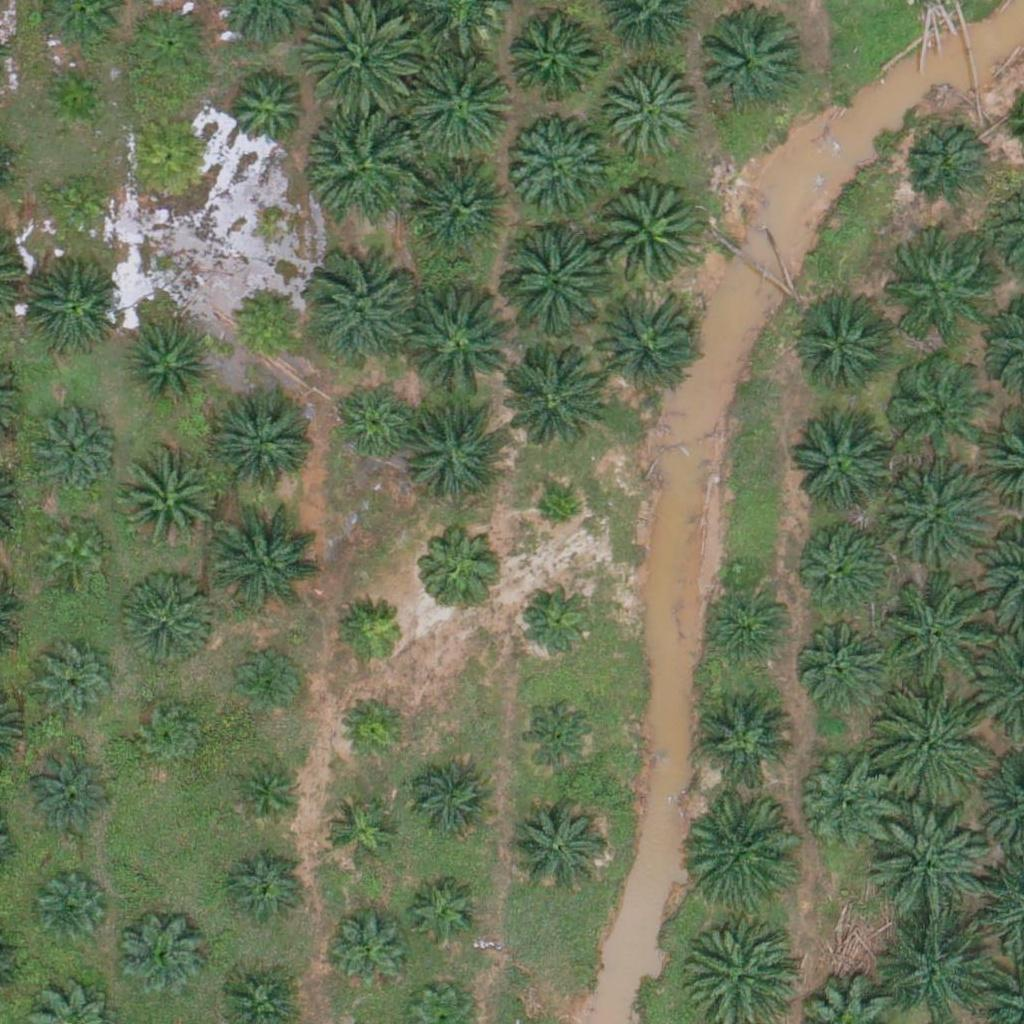Kelapa_Sawit: (686, 792, 799, 906), (870, 809, 983, 922), (876, 461, 989, 574), (878, 690, 991, 803), (495, 226, 608, 339), (492, 343, 605, 456), (310, 107, 423, 220), (307, 255, 420, 368), (399, 285, 511, 399), (403, 44, 515, 158), (881, 907, 993, 1020), (212, 504, 324, 617), (883, 575, 995, 688), (591, 178, 703, 291), (588, 286, 700, 399), (404, 395, 516, 508), (507, 798, 607, 899), (18, 257, 118, 358), (117, 450, 217, 551), (214, 389, 314, 490), (880, 243, 980, 344), (886, 355, 986, 456), (792, 509, 892, 610), (792, 417, 892, 518), (798, 291, 898, 392), (694, 689, 794, 790), (695, 15, 795, 116), (602, 64, 702, 165), (500, 9, 600, 110), (507, 117, 607, 218), (118, 569, 218, 669), (799, 752, 899, 852), (795, 611, 895, 711), (414, 155, 514, 255), (324, 904, 412, 993), (125, 111, 213, 200), (516, 692, 604, 781), (222, 848, 310, 936), (331, 381, 419, 469), (25, 753, 113, 841), (32, 635, 120, 723), (902, 119, 990, 207), (416, 518, 504, 606), (410, 757, 498, 845), (118, 911, 205, 999), (30, 402, 117, 490), (124, 322, 211, 410), (514, 574, 601, 662), (701, 577, 788, 665), (221, 66, 308, 154), (228, 283, 303, 359), (33, 874, 108, 950), (231, 645, 306, 721), (229, 757, 304, 833), (36, 60, 111, 136), (40, 168, 115, 244), (336, 595, 411, 670), (37, 516, 112, 591), (321, 795, 396, 870), (135, 700, 210, 775), (409, 879, 484, 954), (336, 691, 411, 766), (533, 489, 583, 539)
